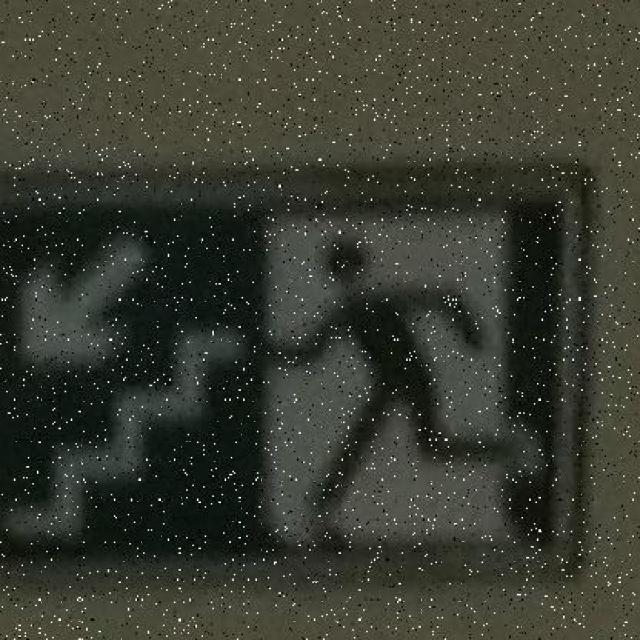emergency_exit: (2, 1, 638, 638), (2, 159, 595, 564)
